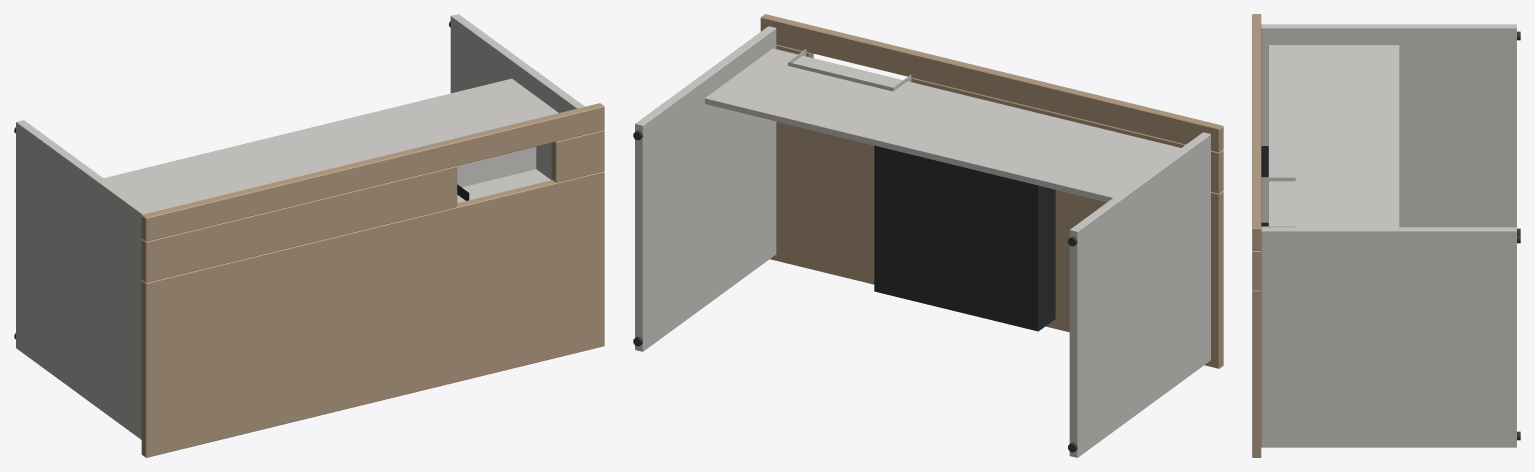
File: desk_with_drawer_body.glb
The picture shows the model from 3 angles, left to right: view 1: azimuth 30°, elevation 25°; view 2: azimuth 150°, elevation 25°; view 3: azimuth 270°, elevation 25°; orthographic projection. The views are drawn at different scales.
Visible parts, largest first — view 1: export_tmp; view 2: export_tmp; view 3: export_tmp.
Boxes of the visible parts, bbox=[...] form: export_tmp: bbox=[14, 14, 604, 457]; export_tmp: bbox=[633, 14, 1223, 457]; export_tmp: bbox=[1252, 14, 1520, 457].
Bounding box in the file's own units: 1.4 × 0.7 × 0.74.
